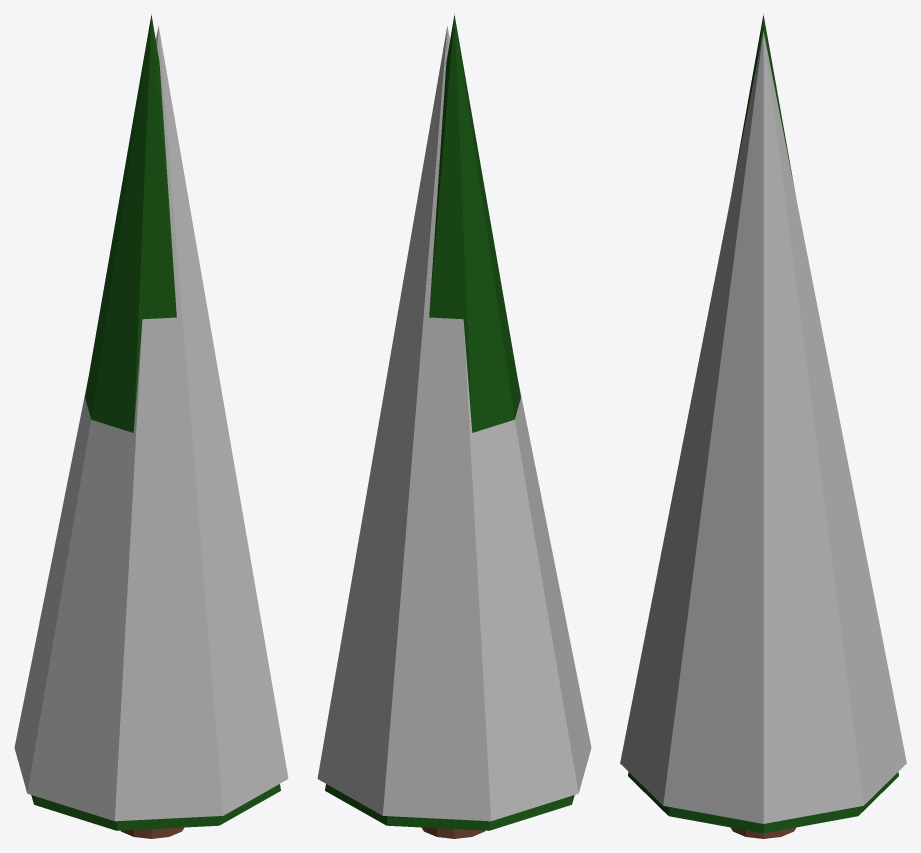
The model's file is Tree_24_winter_vc.fbx.
3 views of the same model, side by side, from view 1: azimuth 30°, elevation 25°; view 2: azimuth 150°, elevation 25°; view 3: azimuth 270°, elevation 25° (orthographic).
Visible parts, largest first — view 1: Tree_24_winter_vc; view 2: Tree_24_winter_vc; view 3: Tree_24_winter_vc.
Part boxes in pixels (x1,y1,x2,y2): Tree_24_winter_vc: [14, 14, 288, 838]; Tree_24_winter_vc: [317, 14, 591, 838]; Tree_24_winter_vc: [620, 14, 906, 838].
Size of the model in its own units: 2.35 by 7.31 by 2.35.
